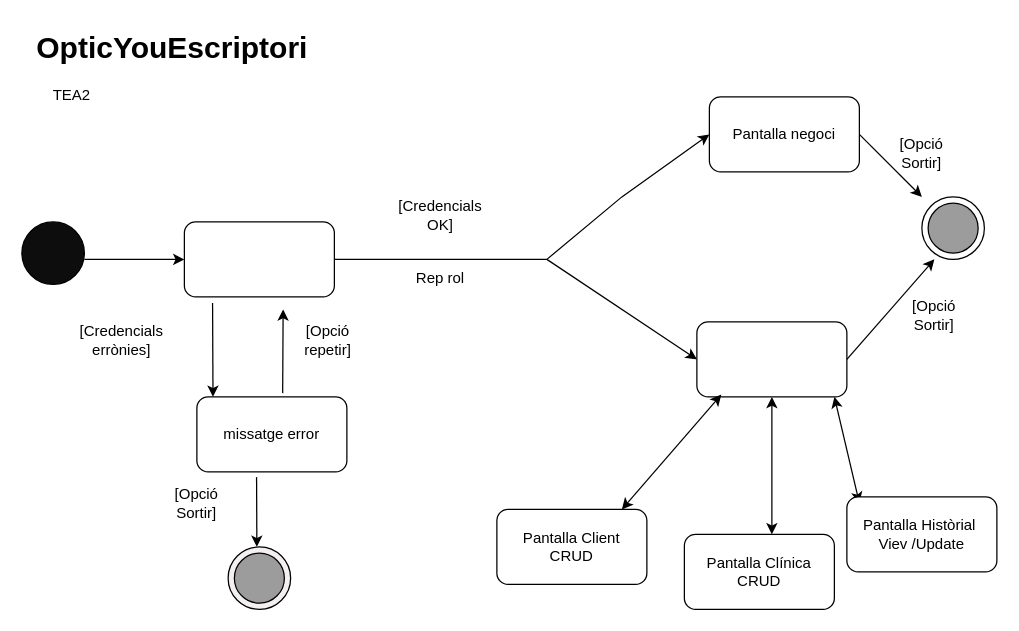
The diagram is 1019 pixels wide and 631 high, and some of its shapes have lost their labels. Here are the shapes that lost their labels. From the top down, the centre of each, then its label:
At (258,259): "Pantalla Login".
At (771,359): "Pantalla admin".
